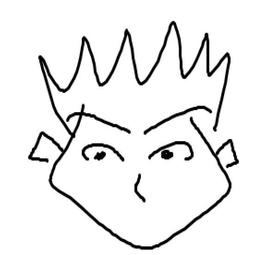eye: (147, 139, 195, 164), (79, 142, 125, 162)
frowning_eyebrow: (143, 102, 213, 134), (67, 109, 133, 134)
pointy_nose: (131, 169, 148, 206)
